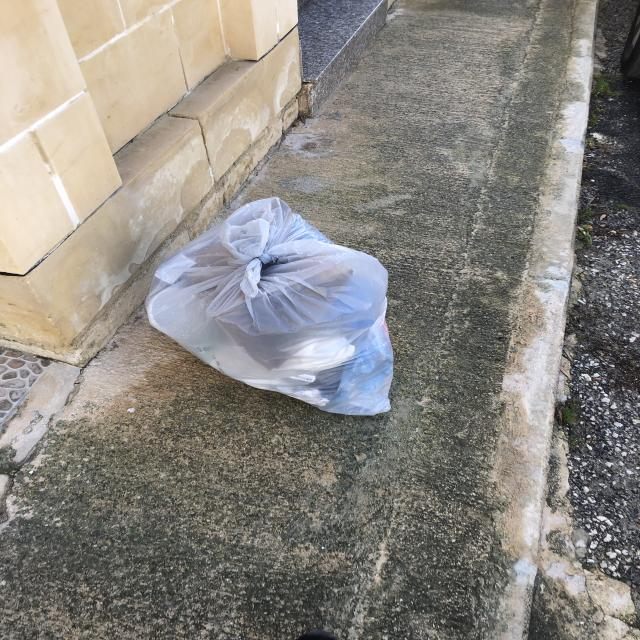Recycled Waste -Grey or Green Bag-: (147, 200, 392, 416)
